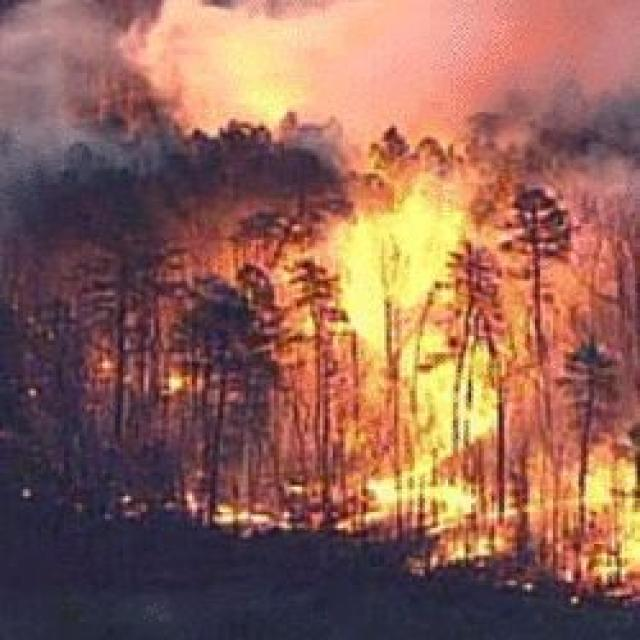Fire: (243, 192, 640, 590)
Smoke: (21, 6, 640, 158)
